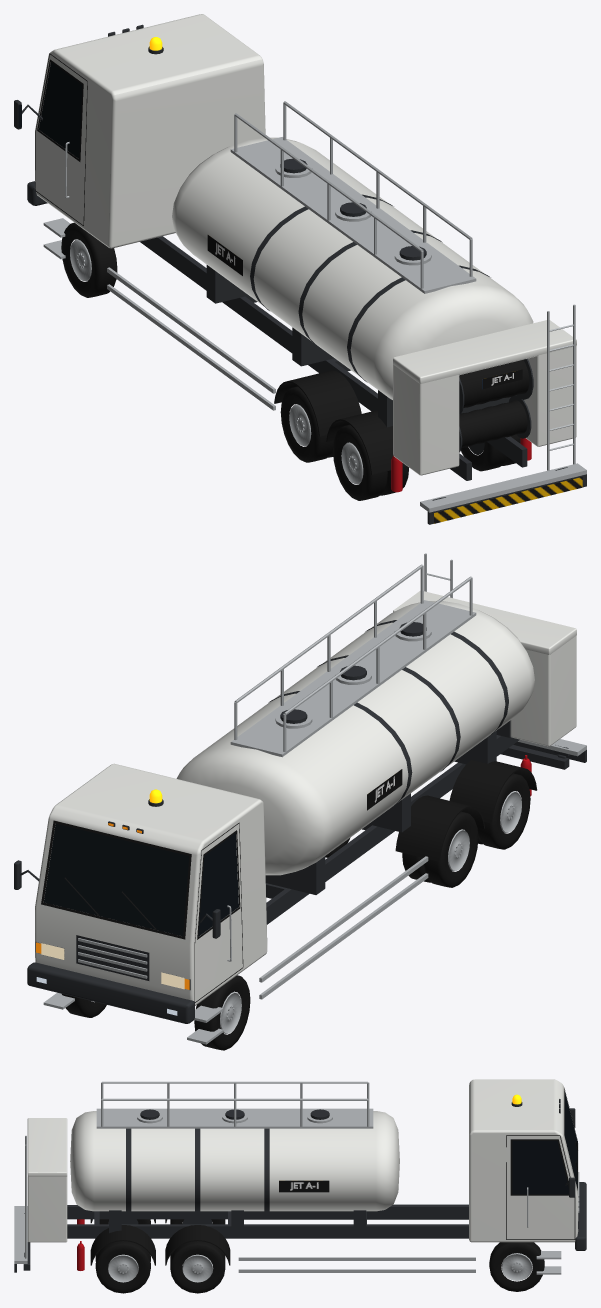
File: fuel_tanker.glb
The picture shows the model from 3 angles, top to bottom: view 1: azimuth 30°, elevation 25°; view 2: azimuth 150°, elevation 25°; view 3: azimuth 270°, elevation 25°; orthographic projection. The views are drawn at different scales.
Parts seen in each view (by area): view 1: Body, Wheels; view 2: Body, Wheels; view 3: Body, Wheels.
Boxes of the visible parts, bbox=[...] form: Body: bbox=[14, 14, 586, 524]; Wheels: bbox=[61, 222, 520, 500]; Body: bbox=[14, 553, 586, 1044]; Wheels: bbox=[62, 773, 530, 1050]; Body: bbox=[14, 1079, 586, 1274]; Wheels: bbox=[95, 1219, 544, 1293].
Size of what is drawn, in the model's own units: 3.15 by 3.65 by 10.77.
9 materials, 3 textured.
